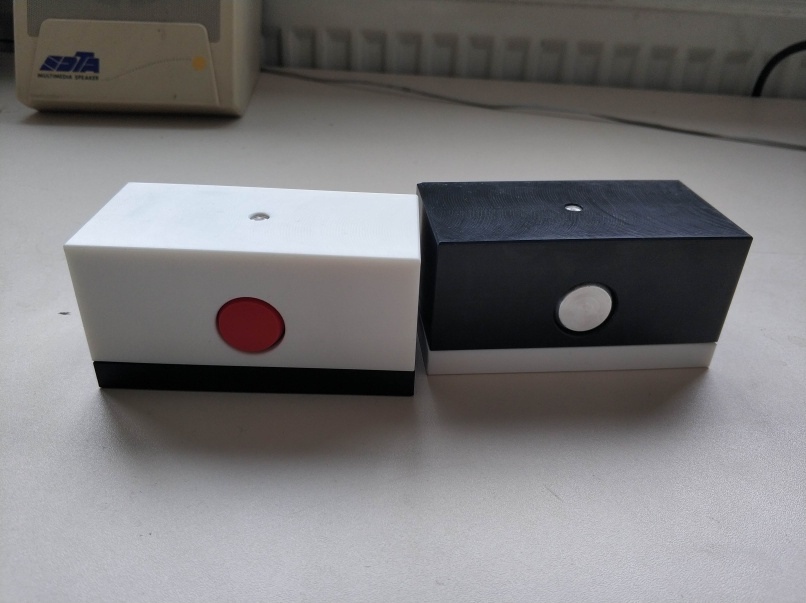black+white+red: (61, 180, 421, 400)
white+black+silver: (416, 177, 755, 377)
